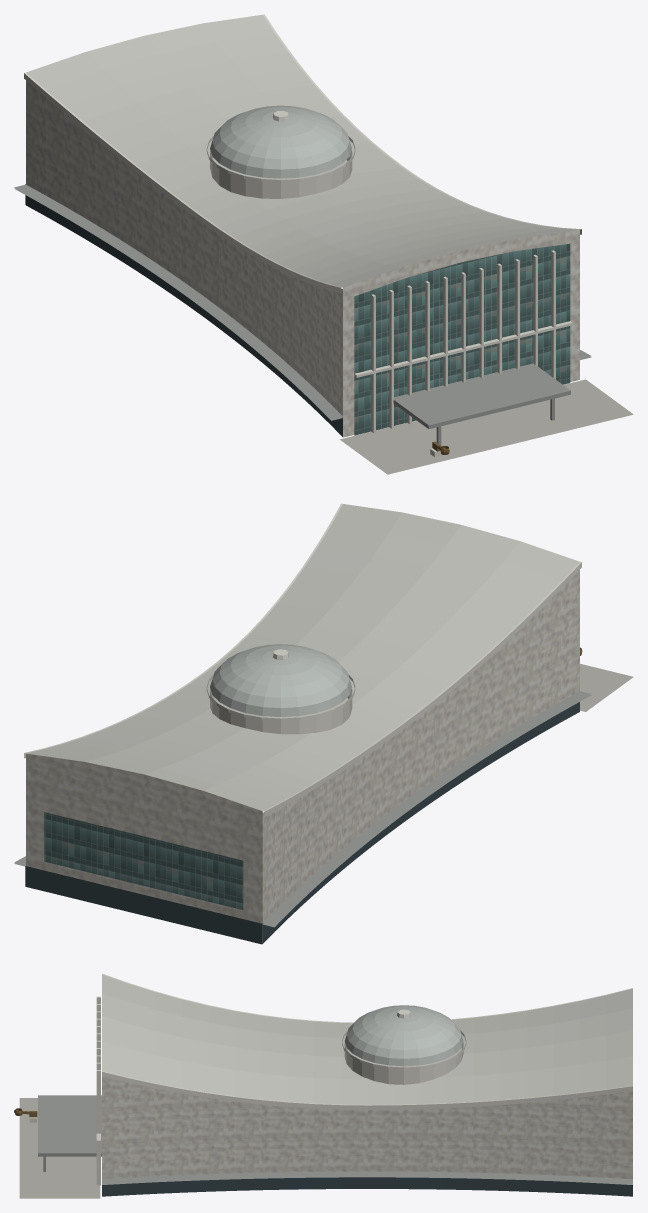
File: un_general_assembly.glb
The picture shows the model from 3 angles, top to bottom: view 1: azimuth 30°, elevation 25°; view 2: azimuth 150°, elevation 25°; view 3: azimuth 270°, elevation 25°; orthographic projection. The views are drawn at different scales.
Parts seen in each view (by area): view 1: un_general_assembly; view 2: un_general_assembly; view 3: un_general_assembly.
Part boxes in pixels (bbox=[...]): un_general_assembly: bbox=[14, 14, 633, 474]; un_general_assembly: bbox=[14, 503, 633, 944]; un_general_assembly: bbox=[14, 973, 632, 1198].
Bounding box in the file's own units: 55.01 × 32.82 × 135.
Materials: 3 (3 with a texture image).
